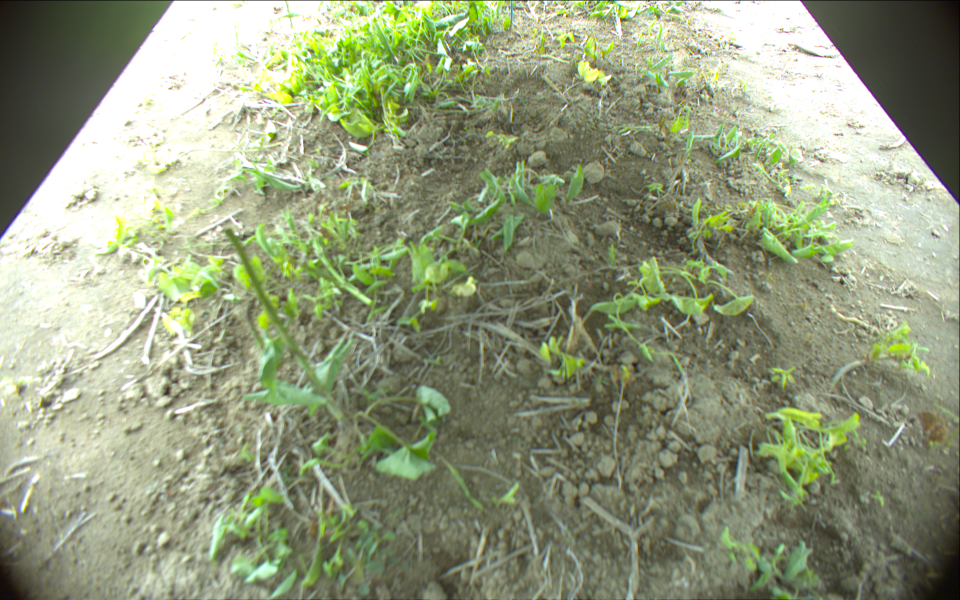aspa: (221, 226, 342, 415)
